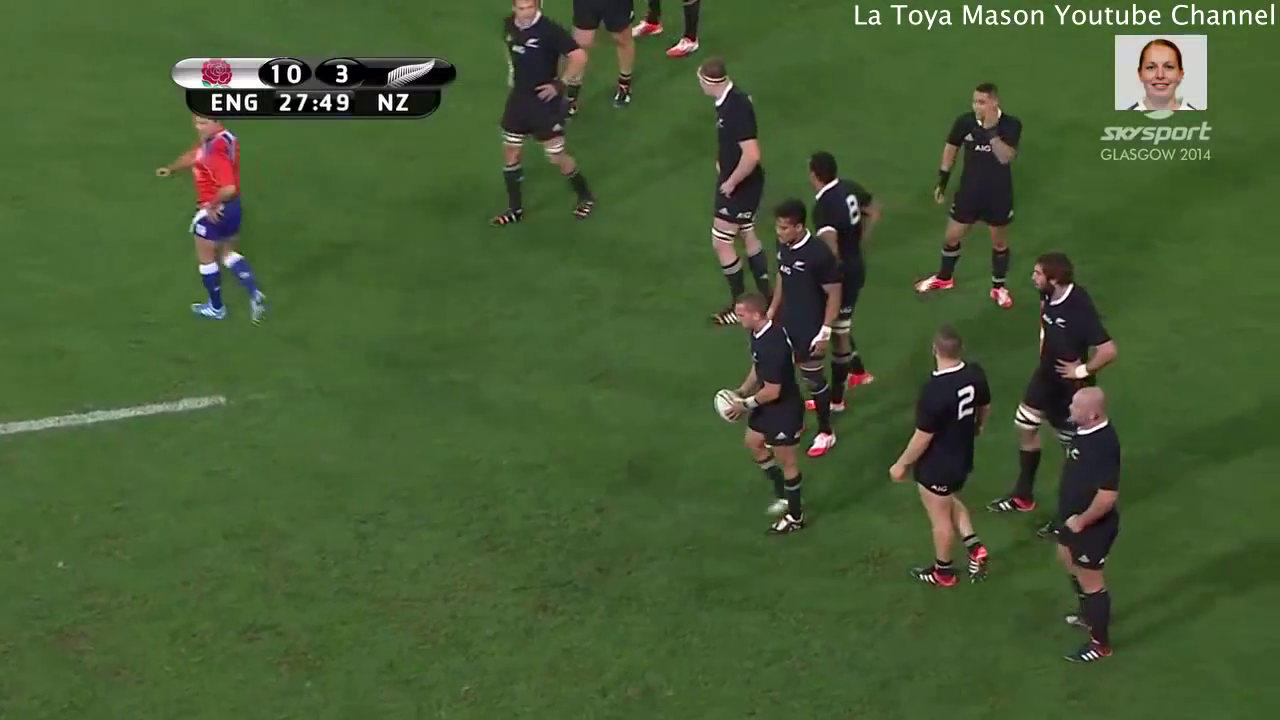ball: (704, 373, 756, 440)
player: (981, 230, 1121, 533), (1033, 375, 1153, 681), (699, 283, 824, 552), (898, 70, 1018, 327), (673, 46, 778, 326), (880, 324, 990, 591), (151, 105, 278, 332), (481, 1, 600, 236), (748, 188, 842, 452), (795, 139, 884, 402), (562, 1, 645, 128)
